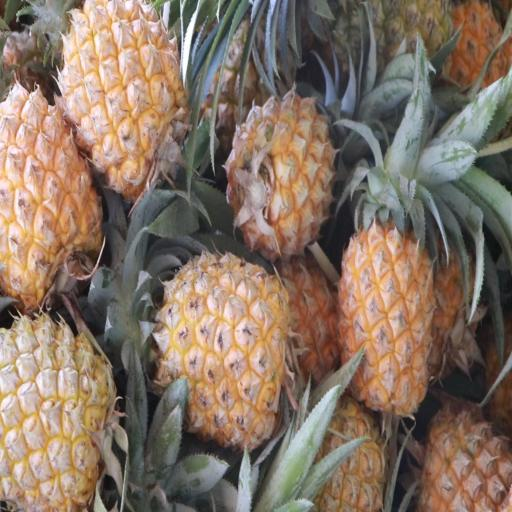Pineapple - v8 v1: (160, 254, 289, 444), (66, 0, 187, 192), (0, 312, 114, 512), (0, 86, 101, 298), (338, 212, 436, 414), (232, 93, 335, 251)
